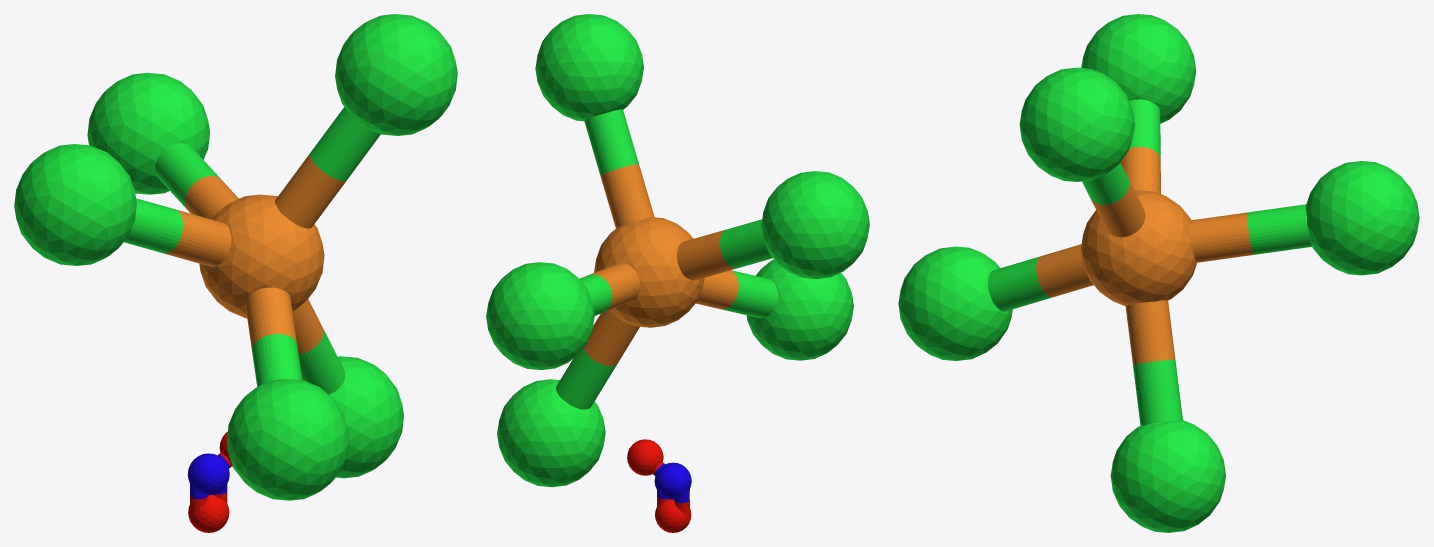
File: PCl5.glb
3 views of the same model, side by side, from view 1: azimuth 30°, elevation 25°; view 2: azimuth 150°, elevation 25°; view 3: azimuth 270°, elevation 25° (orthographic). The views are drawn at different scales.
Visible parts, largest first — view 1: Shape_IndexedFaceSet.018, Shape_IndexedFaceSet.016, Shape_IndexedFaceSet.020, Shape_IndexedFaceSet.015, Shape_IndexedFaceSet.017, Shape_IndexedFaceSet.019, Shape_IndexedFaceSet.023, Shape_IndexedFaceSet.021, Shape_IndexedFaceSet.028, Shape_IndexedFaceSet.029, Shape_IndexedFaceSet.034, Shape_IndexedFaceSet.032 (+6 smaller); view 2: Shape_IndexedFaceSet.017, Shape_IndexedFaceSet.018, Shape_IndexedFaceSet.020, Shape_IndexedFaceSet.019, Shape_IndexedFaceSet.015, Shape_IndexedFaceSet.016, Shape_IndexedFaceSet.023, Shape_IndexedFaceSet.021, Shape_IndexedFaceSet.026, Shape_IndexedFaceSet.025, Shape_IndexedFaceSet.028, Shape_IndexedFaceSet.029 (+7 smaller); view 3: Shape_IndexedFaceSet.020, Shape_IndexedFaceSet.017, Shape_IndexedFaceSet.019, Shape_IndexedFaceSet.016, Shape_IndexedFaceSet.015, Shape_IndexedFaceSet.018, Shape_IndexedFaceSet.026, Shape_IndexedFaceSet.025, Shape_IndexedFaceSet.032, Shape_IndexedFaceSet.031, Shape_IndexedFaceSet.035, Shape_IndexedFaceSet.034 (+4 smaller).
Boxes of the visible parts, x1=… form: Shape_IndexedFaceSet.018: x1=14, y1=144, x2=136, y2=265; Shape_IndexedFaceSet.016: x1=226, y1=378, x2=349, y2=500; Shape_IndexedFaceSet.020: x1=335, y1=14, x2=457, y2=135; Shape_IndexedFaceSet.015: x1=199, y1=194, x2=324, y2=318; Shape_IndexedFaceSet.017: x1=87, y1=72, x2=209, y2=194; Shape_IndexedFaceSet.019: x1=329, y1=356, x2=403, y2=478; Shape_IndexedFaceSet.023: x1=310, y1=107, x2=380, y2=180; Shape_IndexedFaceSet.021: x1=275, y1=153, x2=346, y2=228; Shape_IndexedFaceSet.028: x1=164, y1=210, x2=231, y2=266; Shape_IndexedFaceSet.029: x1=124, y1=198, x2=182, y2=253; Shape_IndexedFaceSet.034: x1=245, y1=287, x2=296, y2=349; Shape_IndexedFaceSet.032: x1=155, y1=143, x2=220, y2=208; Shape_IndexedFaceSet.017: x1=486, y1=262, x2=594, y2=369; Shape_IndexedFaceSet.018: x1=761, y1=171, x2=869, y2=278; Shape_IndexedFaceSet.020: x1=535, y1=14, x2=643, y2=121; Shape_IndexedFaceSet.019: x1=497, y1=379, x2=605, y2=487; Shape_IndexedFaceSet.015: x1=594, y1=217, x2=704, y2=327; Shape_IndexedFaceSet.016: x1=746, y1=259, x2=853, y2=360; Shape_IndexedFaceSet.023: x1=584, y1=109, x2=638, y2=175; Shape_IndexedFaceSet.021: x1=600, y1=164, x2=654, y2=228; Shape_IndexedFaceSet.026: x1=556, y1=348, x2=616, y2=409; Shape_IndexedFaceSet.025: x1=583, y1=310, x2=639, y2=366; Shape_IndexedFaceSet.028: x1=677, y1=229, x2=736, y2=280; Shape_IndexedFaceSet.029: x1=720, y1=219, x2=772, y2=268; Shape_IndexedFaceSet.020: x1=1019, y1=67, x2=1134, y2=181; Shape_IndexedFaceSet.017: x1=1306, y1=161, x2=1419, y2=275; Shape_IndexedFaceSet.019: x1=1110, y1=420, x2=1225, y2=532; Shape_IndexedFaceSet.016: x1=898, y1=246, x2=1012, y2=360; Shape_IndexedFaceSet.015: x1=1081, y1=190, x2=1196, y2=306; Shape_IndexedFaceSet.018: x1=1081, y1=14, x2=1196, y2=123; Shape_IndexedFaceSet.026: x1=1133, y1=359, x2=1182, y2=425; Shape_IndexedFaceSet.025: x1=1125, y1=300, x2=1175, y2=364; Shape_IndexedFaceSet.032: x1=1247, y1=204, x2=1311, y2=254; Shape_IndexedFaceSet.031: x1=1190, y1=212, x2=1253, y2=262; Shape_IndexedFaceSet.035: x1=988, y1=256, x2=1052, y2=311; Shape_IndexedFaceSet.034: x1=1036, y1=244, x2=1093, y2=297.
Bounding box in the file's own units: 0.3651 × 0.4521 × 0.445.
